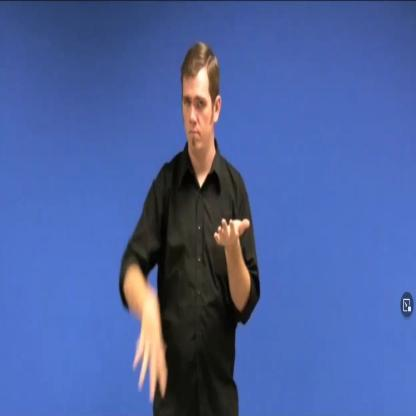Expensive: (117, 176, 256, 416)
